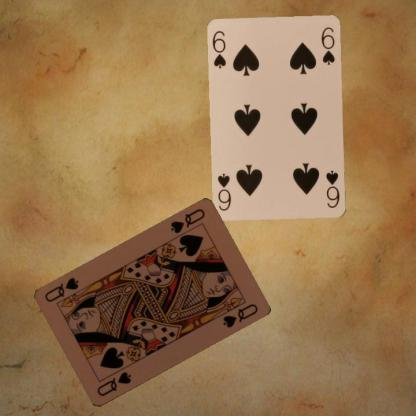6s: (209, 28, 228, 70), (323, 168, 341, 210)
Qs: (94, 369, 133, 398), (168, 206, 206, 235)
